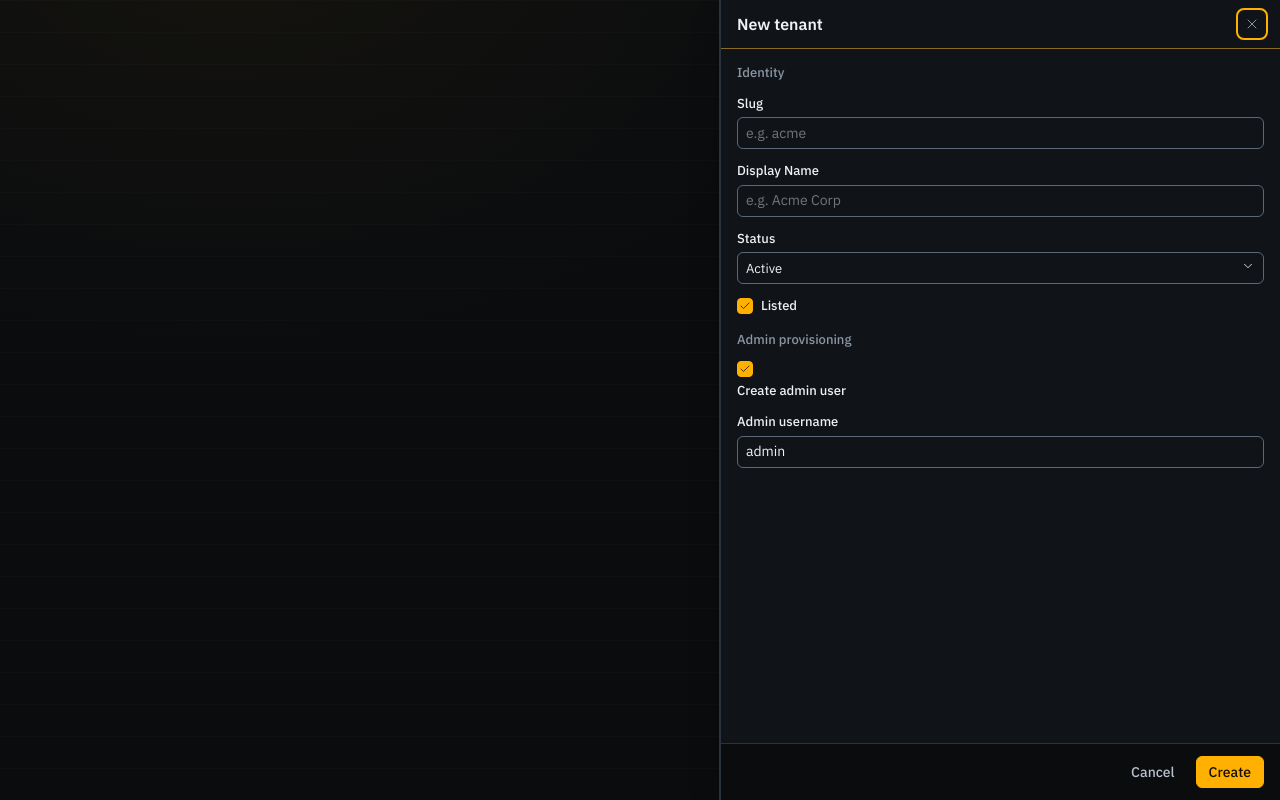
it: TenantEditor create — admin provisioning › shows the one-time credential reveal after create returns an admin block
Type "acme" into the field labelled "Slug" at (1000, 133), box [738,123,1263,144]
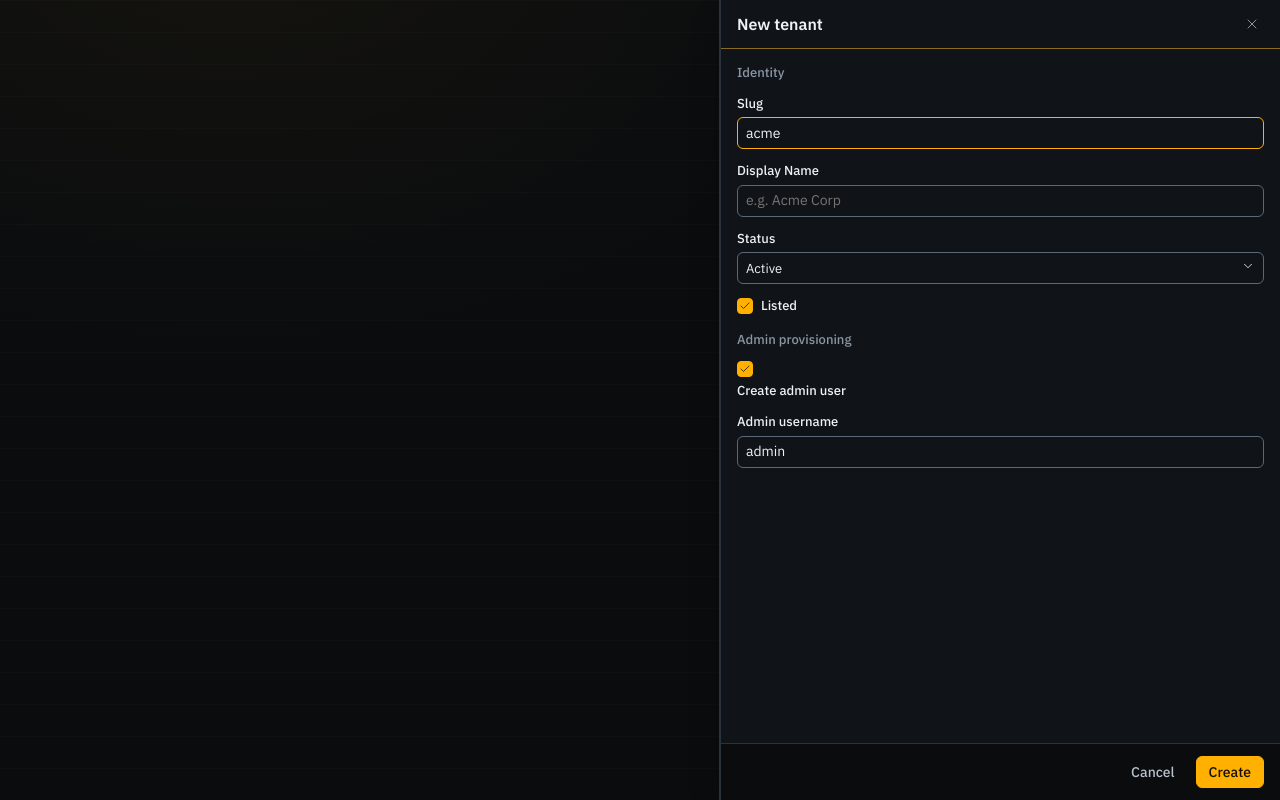
Type "Acme" into the field labelled "Display Name" at (1000, 201), box [738,190,1263,211]
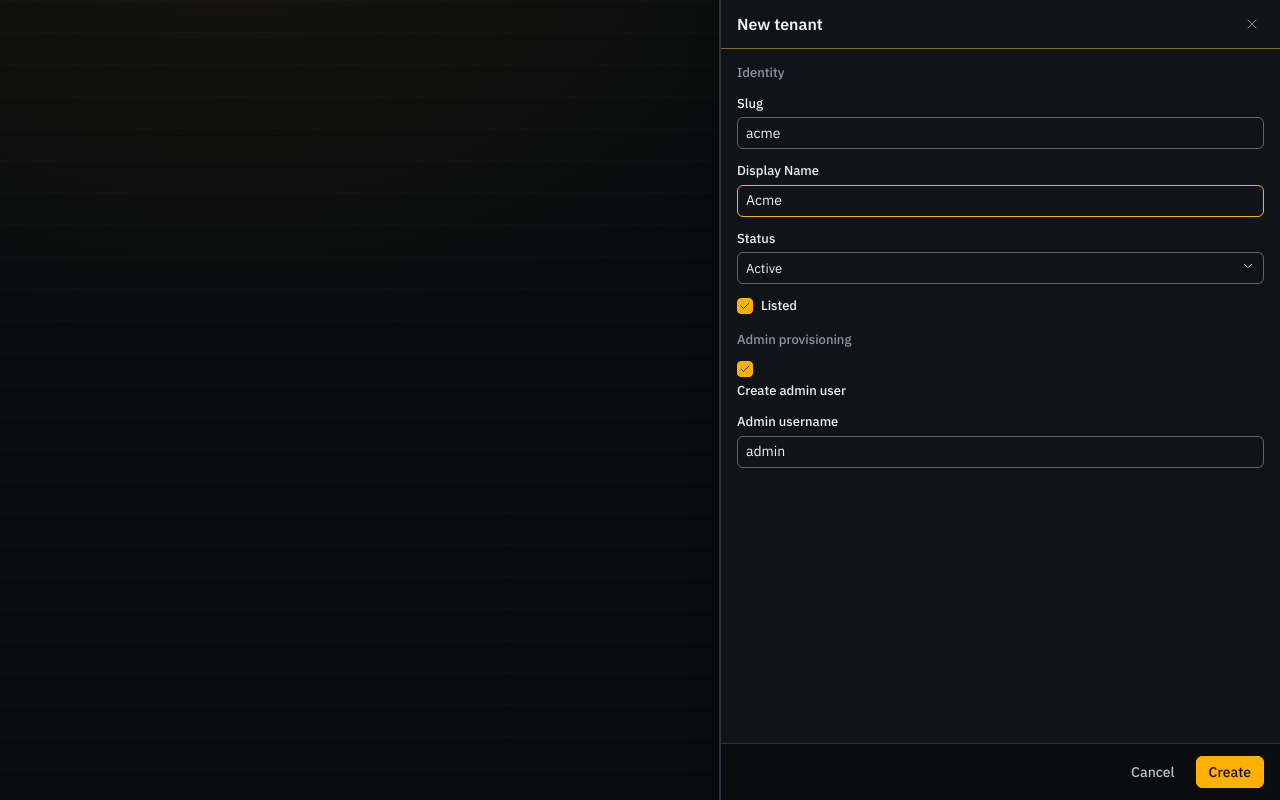
Click the button "Create" at (1230, 772), box [1196,756,1264,788]
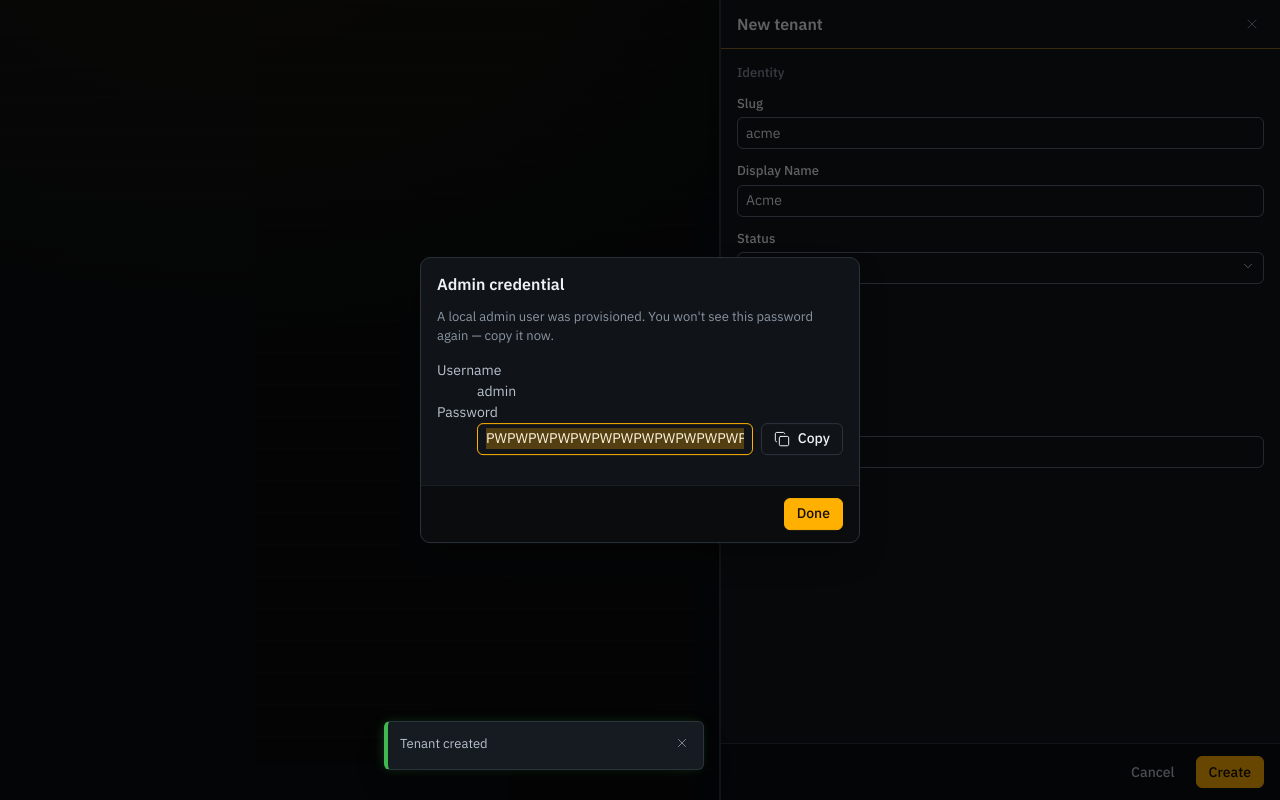
Result: the field showing "PWPWPWPWPWPWPWPWPWPWPWPWPWPWPWPW" is shown at [478,428,752,449]
